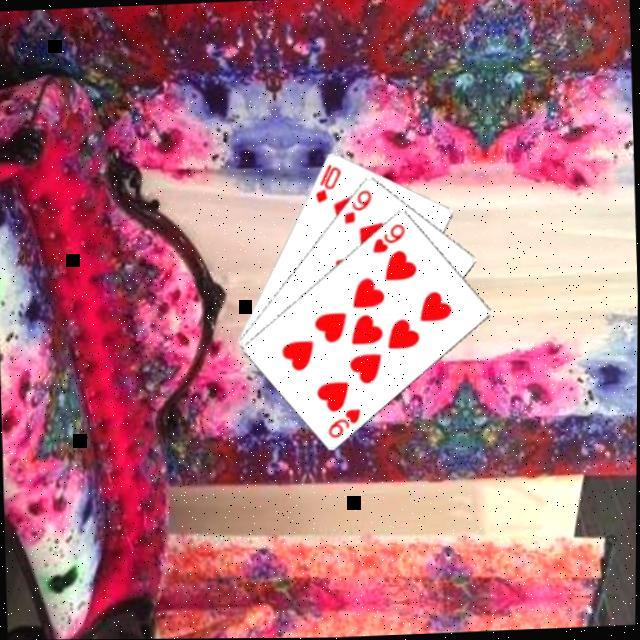10D: (312, 160, 346, 204)
9D: (340, 186, 376, 227)
9H: (368, 219, 409, 254), (326, 404, 364, 439)
